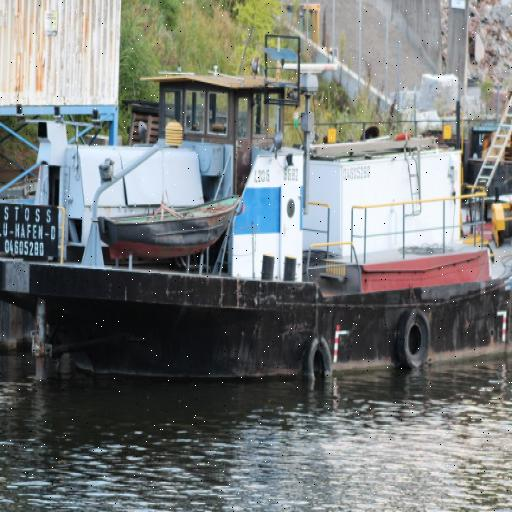tugboat: (1, 32, 512, 396)
